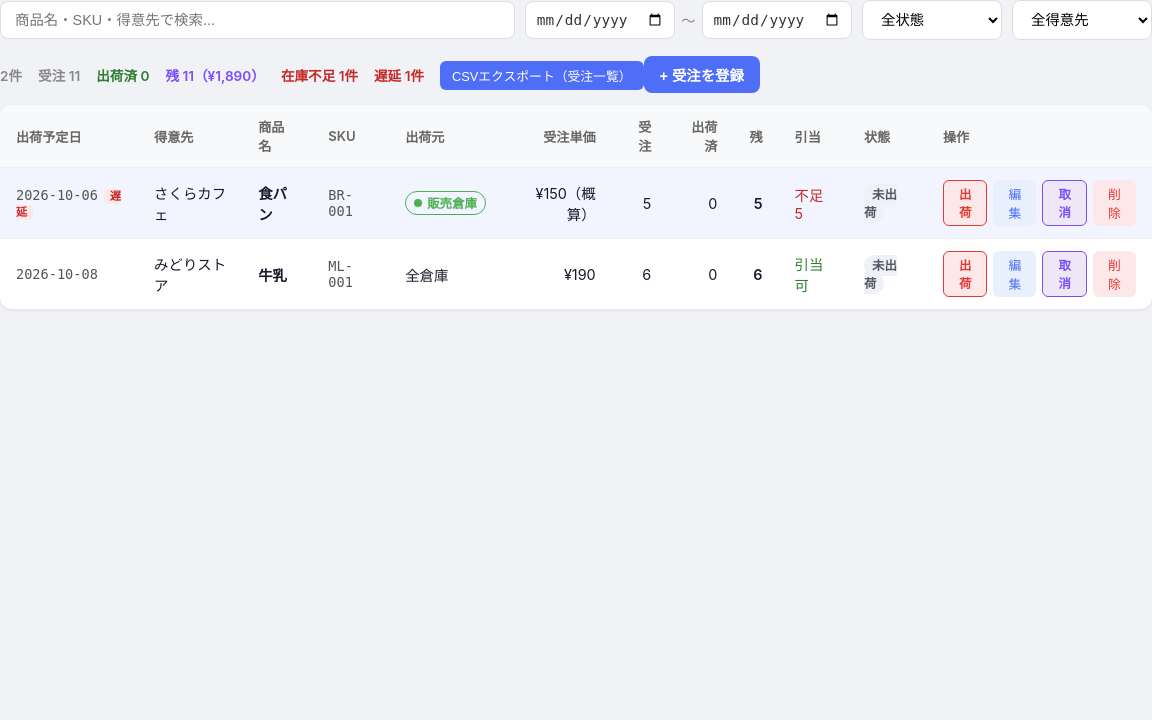
Test: SalesOrderView — 出荷 › 在庫が足りない受注は出荷ボタンを押せない
Click the button "出荷" in the row of "2026-10-06" at (965, 203), box [943, 180, 987, 226]
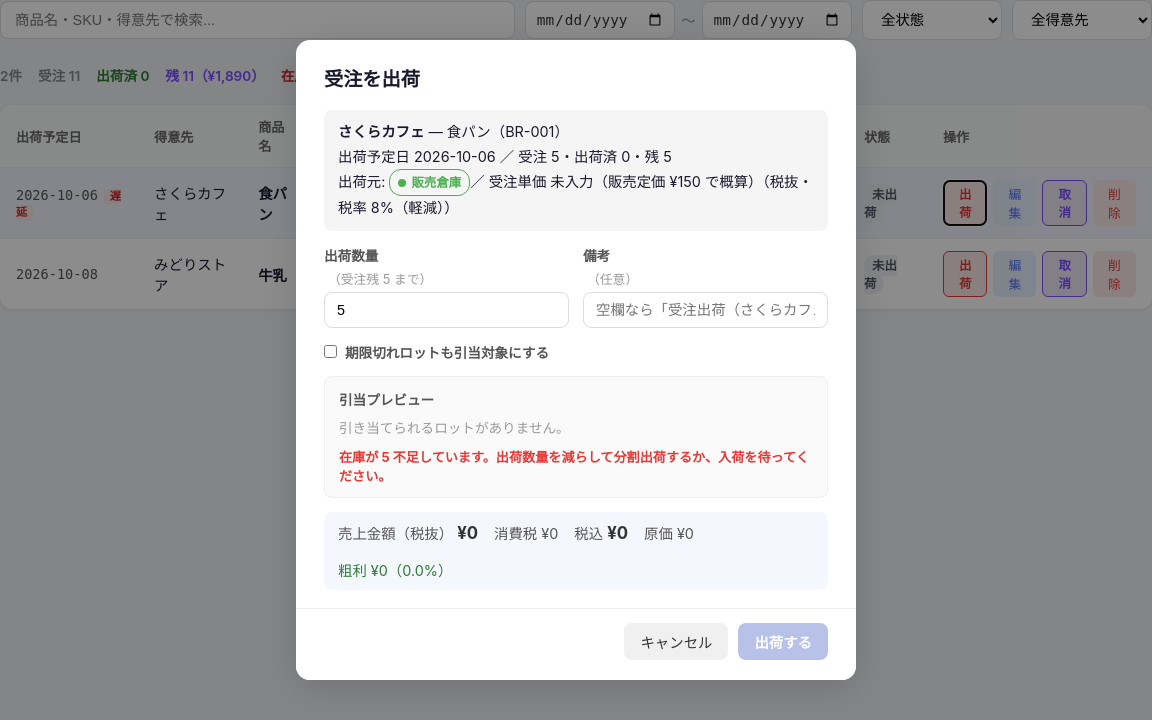
Check: the text "在庫が 5 不足しています。出荷数量を減らして分割出荷するか、入荷を待ってください。" is shown, box [339, 447, 813, 485]
Check: the button "出荷する" is disabled, box [738, 623, 828, 660]
